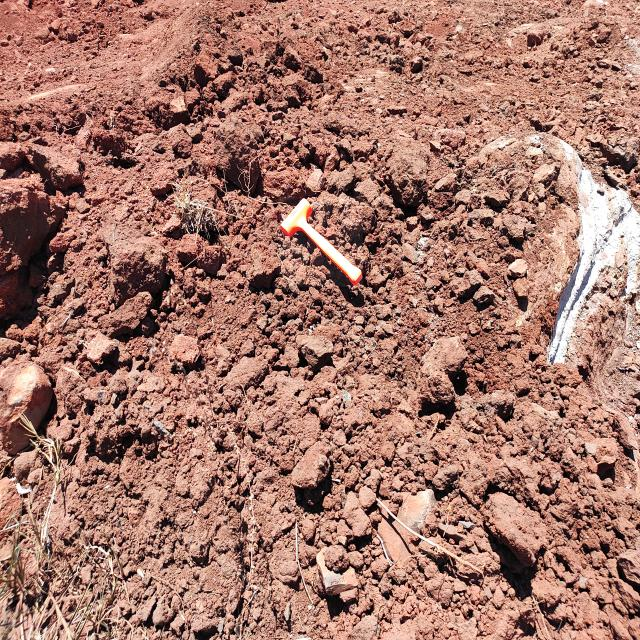Orange_hammer: (279, 197, 363, 287)
